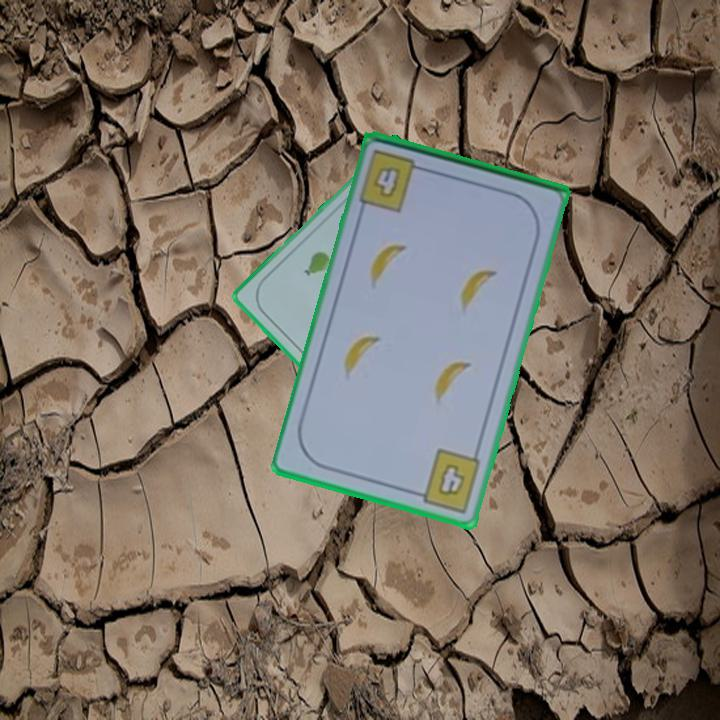4b: (409, 445, 484, 516), (355, 146, 431, 215)
